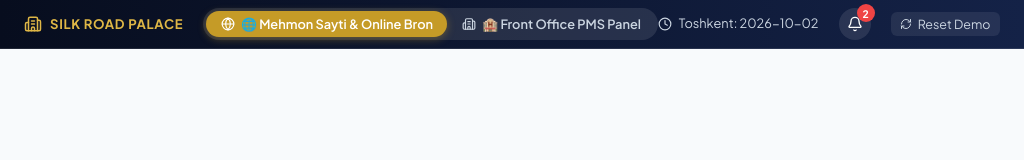
Test: SystemBanner Component Unit Tests › should switch to PMS mode when PMS button is clicked and display role selector
The image size is (1024, 160).
Step 1. Click the button "🏨 Front Office PMS Panel" → x=551, y=24, box [447,11,655,37]
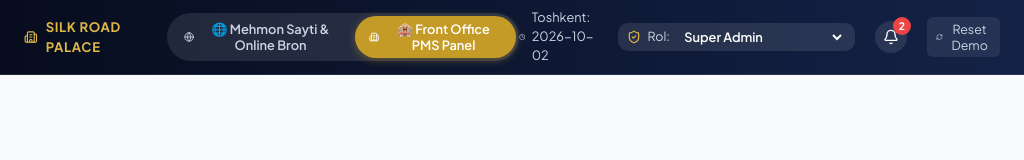
Result: the text "Rol:" is shown at [648,27,670,46]
Result: the dropdown is shown at [676,26,845,48]
